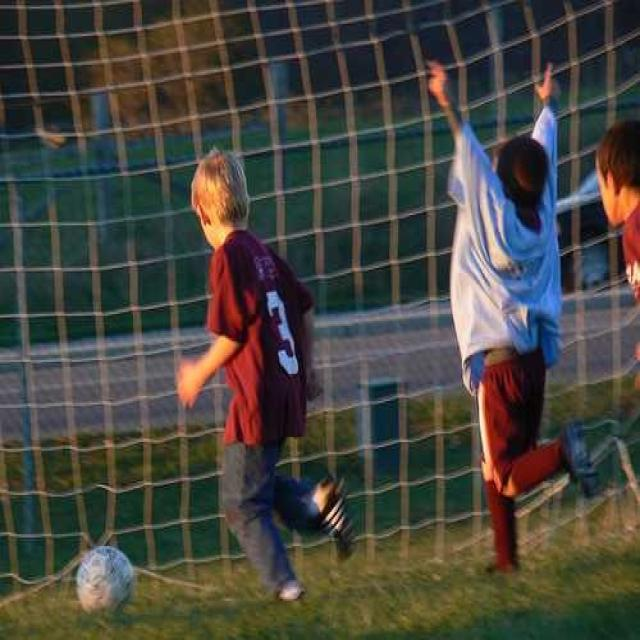ball: (78, 549, 132, 615)
